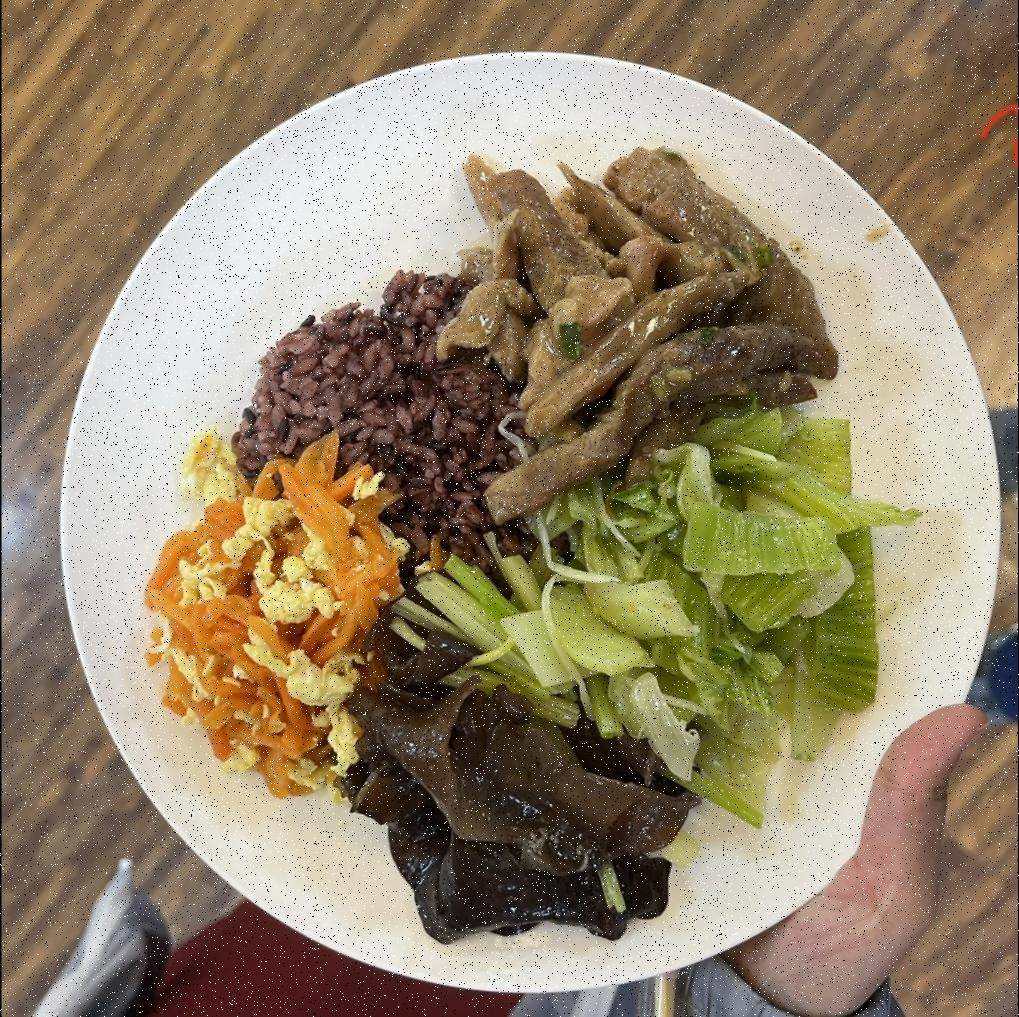plate: (54, 54, 995, 1002)
purple rice: (226, 257, 534, 586)
shacha pork: (466, 132, 842, 522)
side dish: (468, 450, 881, 788), (129, 432, 387, 806), (346, 664, 670, 958)
